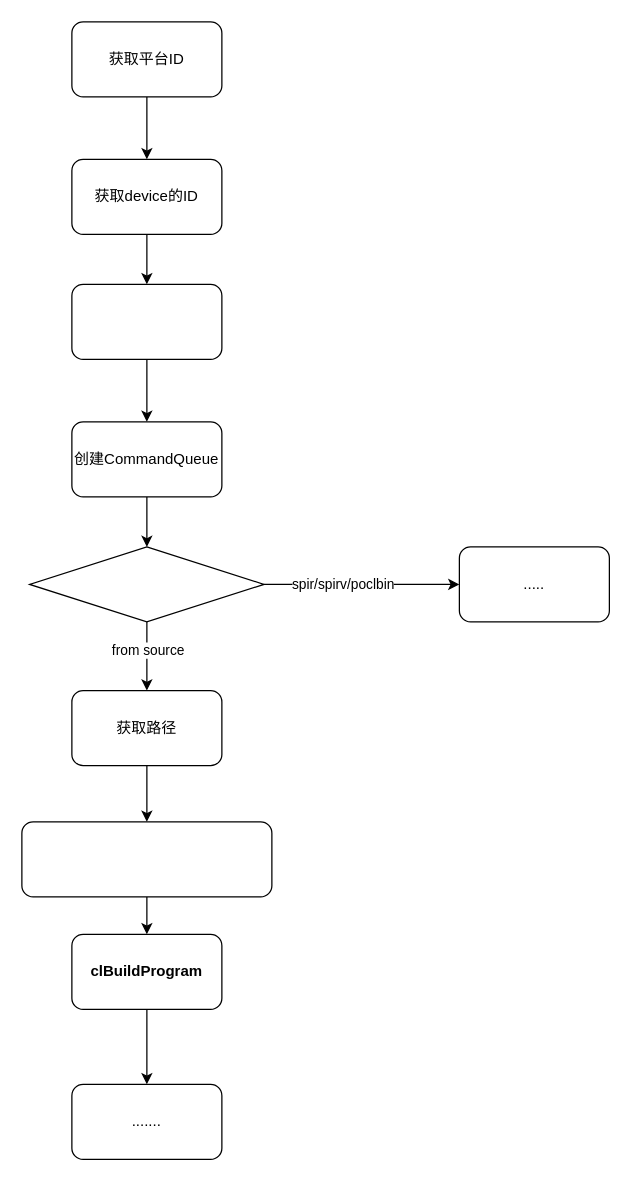
Some shapes in this 631 by 1181 pixel diagram are drawn without their labels. The centre of each missing label's shape, as x and y in pixels:
"clCreateProgramWithSource" goes at point 146,859.
"创建context" goes at point 146,321.
"判断用哪种方式获取kernel" goes at point 146,584.
